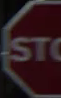Stop: (6, 7, 56, 82)
